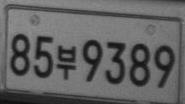3: (105, 41, 126, 84)
5: (33, 35, 53, 78)
8: (128, 42, 150, 87), (9, 33, 31, 76)
9: (153, 44, 175, 89), (81, 39, 103, 82)
부: (56, 44, 77, 80)
